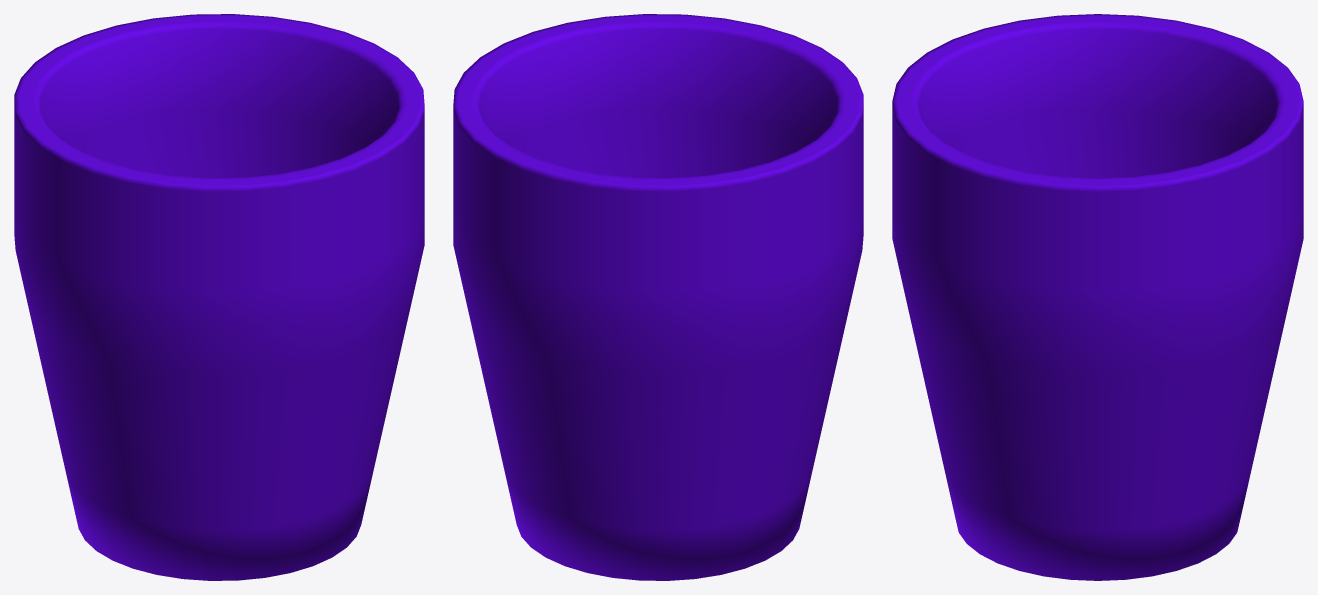
Rendered from MagicSetCup.fbx.
The picture shows the model from 3 angles, left to right: view 1: azimuth 30°, elevation 25°; view 2: azimuth 150°, elevation 25°; view 3: azimuth 270°, elevation 25°; orthographic projection.
Visible parts, largest first — view 1: Cylinder; view 2: Cylinder; view 3: Cylinder.
Part boxes in pixels (bbox=[...]): Cylinder: bbox=[14, 14, 424, 580]; Cylinder: bbox=[453, 14, 863, 580]; Cylinder: bbox=[892, 14, 1303, 580].
Size of the model in its own units: 290 by 327 by 290.
